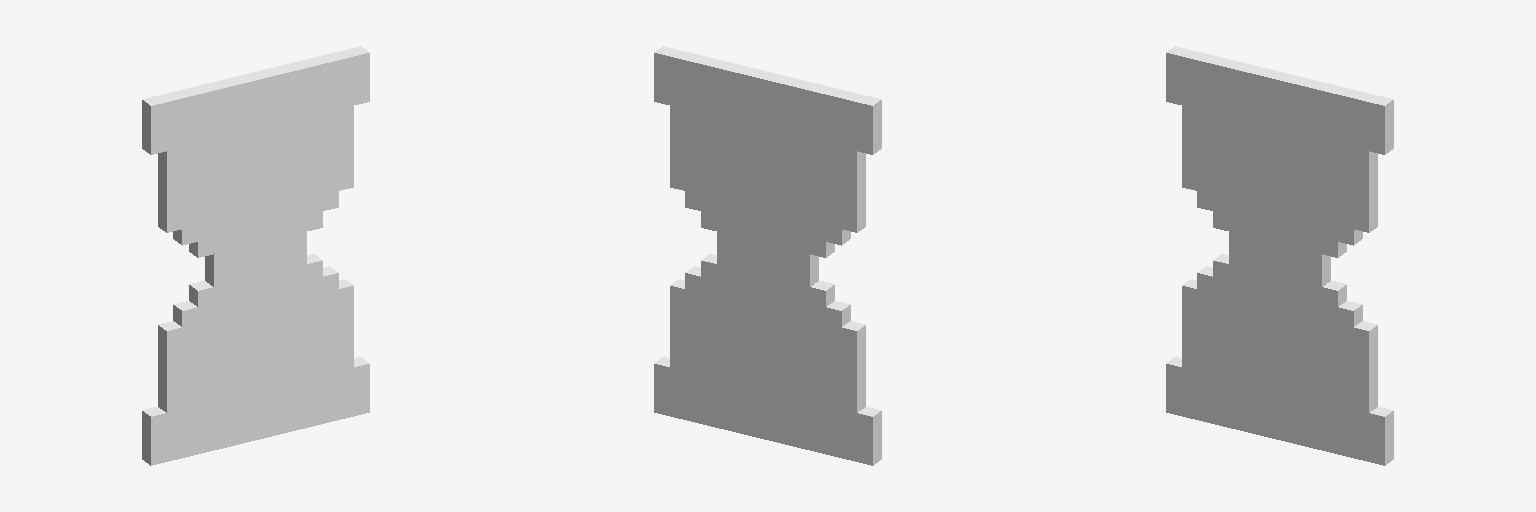
The model's file is SandTimerOBJ.obj.
The picture shows the model from 3 angles: view 1: azimuth 30°, elevation 25°; view 2: azimuth 150°, elevation 25°; view 3: azimuth 330°, elevation 25°; orthographic projection.
Parts seen in each view (by area): view 1: SandTimerOBJ; view 2: SandTimerOBJ; view 3: SandTimerOBJ.
Part boxes in pixels (left/top/right/bottom): SandTimerOBJ: left=142, top=46, right=369, bottom=465; SandTimerOBJ: left=654, top=46, right=881, bottom=465; SandTimerOBJ: left=1166, top=46, right=1393, bottom=465.
Size of the model in its own units: 14 by 22 by 1.